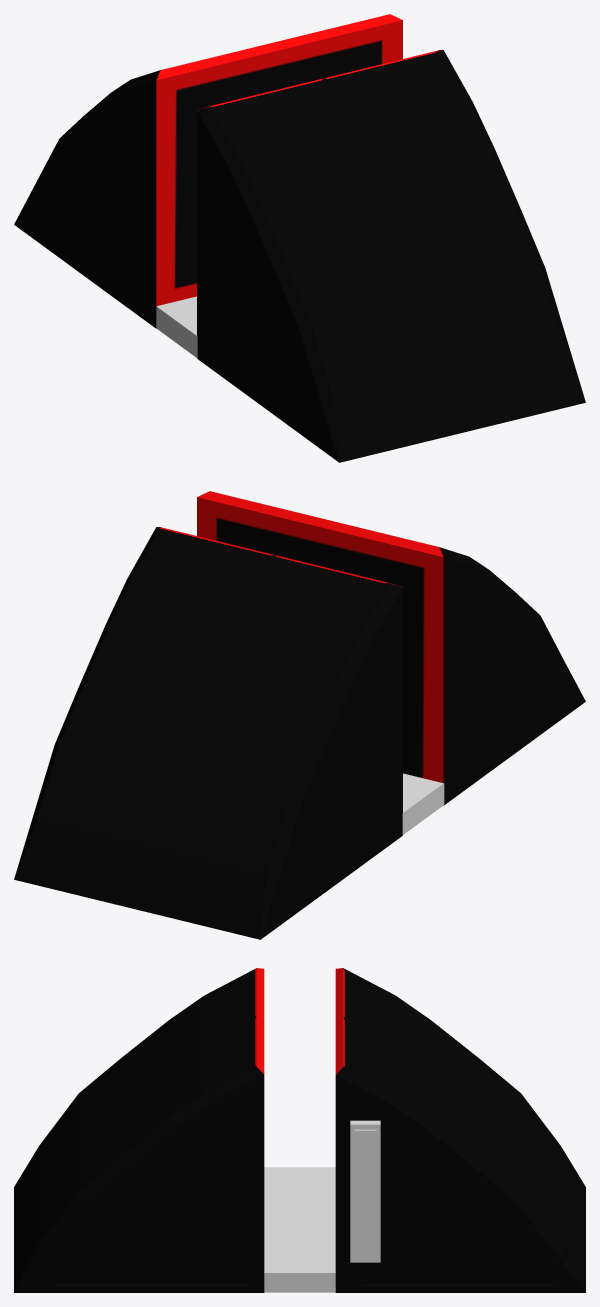
File: enemyspawner.glb
3 renders of one model, top to bottom at view 1: azimuth 30°, elevation 25°; view 2: azimuth 150°, elevation 25°; view 3: azimuth 270°, elevation 25°, orthographic. The views are drawn at different scales.
Visible parts, largest first — view 1: Door.L, Door.R, Cube; view 2: Door.R, Door.L, Cube; view 3: Door.L, Door.R, Cube, Cube.002, Cube.001.
Boxes of the visible parts, <box> form: Door.L: <box>197,50,585,462</box>; Door.R: <box>14,14,402,328</box>; Cube: <box>156,296,197,358</box>; Door.R: <box>14,527,402,939</box>; Door.L: <box>197,491,585,805</box>; Cube: <box>402,773,444,834</box>; Door.L: <box>14,968,264,1292</box>; Door.R: <box>335,968,585,1292</box>; Cube: <box>264,1167,335,1292</box>; Cube.002: <box>355,1129,376,1259</box>; Cube.001: <box>350,1120,380,1262</box>.
Bounding box in the file's own units: 2.1 × 1.97 × 4.57.
Materials: 2 (2 with a texture image).
